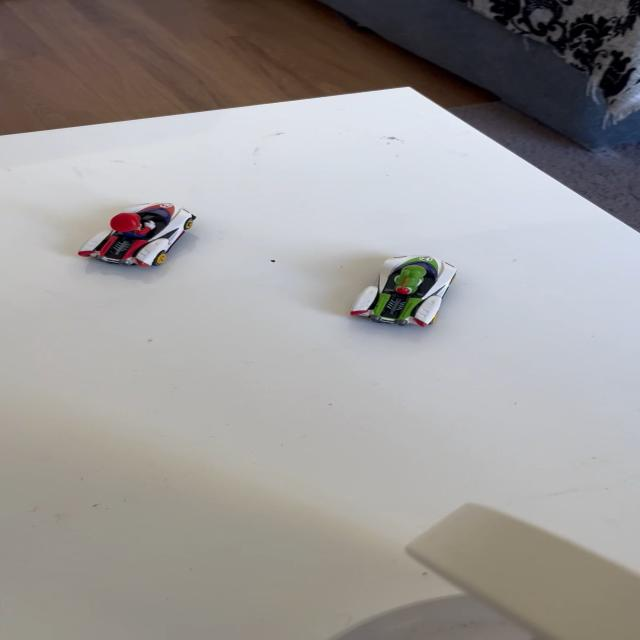mario: (64, 194, 213, 275)
yoshi: (330, 248, 473, 339)
